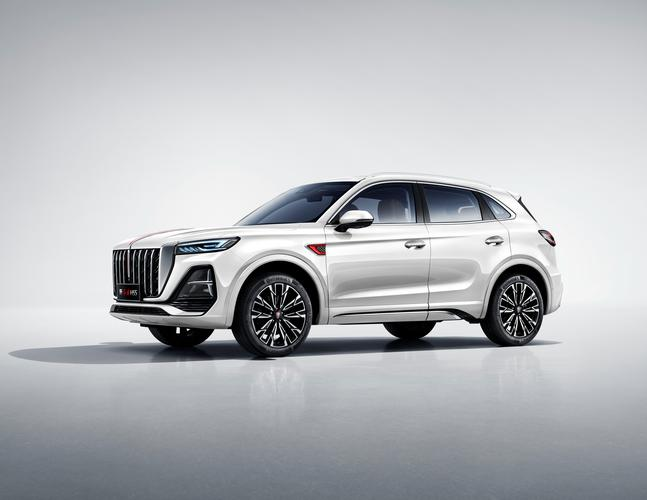汽车: (112, 177, 564, 349)
